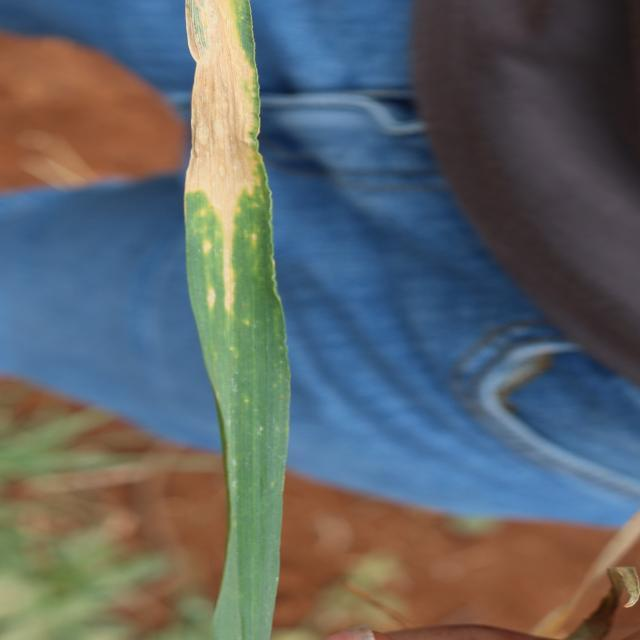Septoria: (175, 0, 291, 344)
